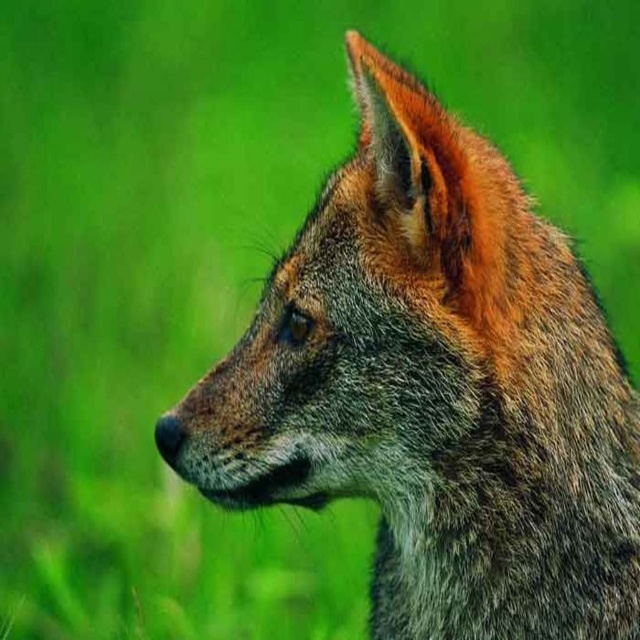Fox: (154, 30, 640, 640)
